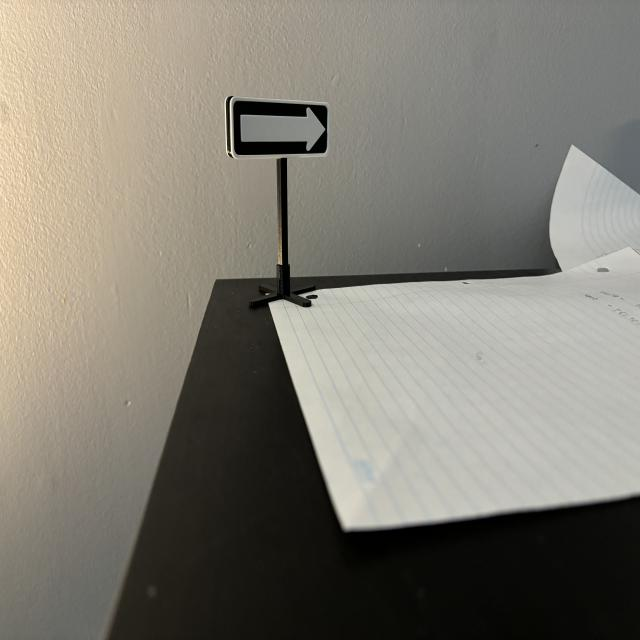sign_oneway_right: (231, 97, 332, 160)
